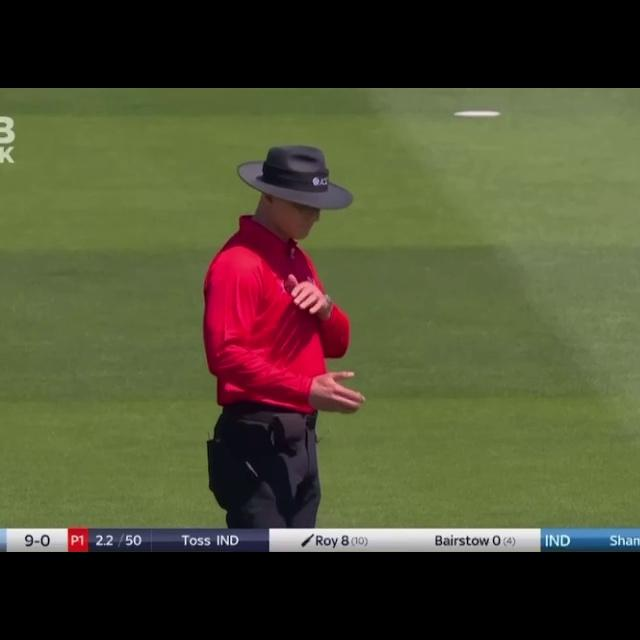umpire: (179, 118, 380, 531)
